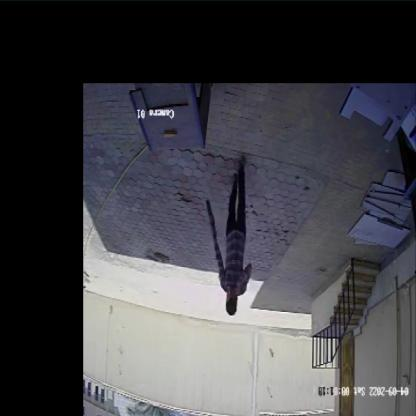handgun: (203, 198, 220, 247)
